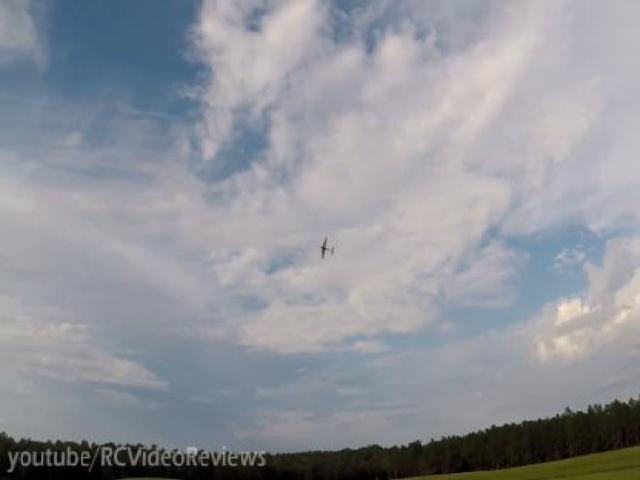uav: (312, 231, 338, 265)
